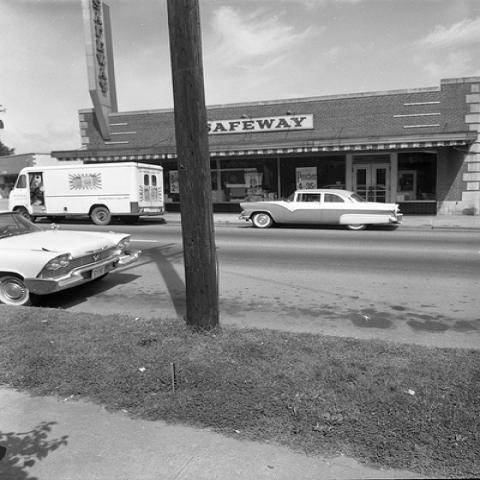car: (0, 212, 146, 314), (238, 190, 403, 234)
truck: (6, 161, 170, 226)
